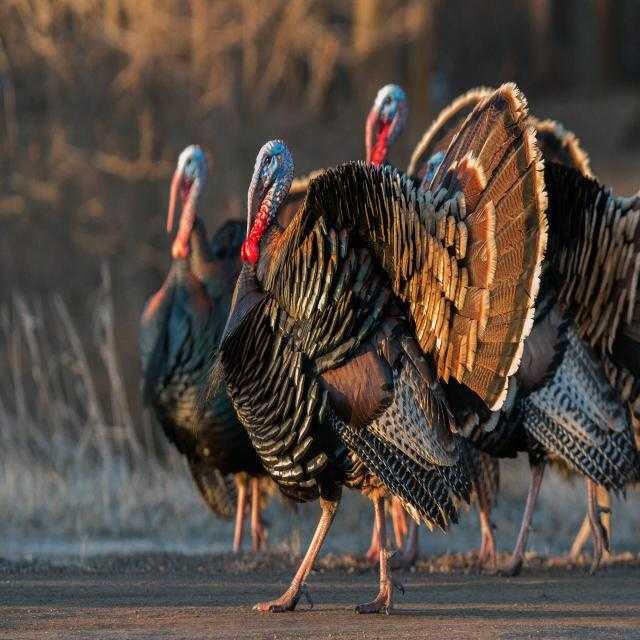Turkey: (233, 132, 640, 602), (118, 123, 349, 567)
